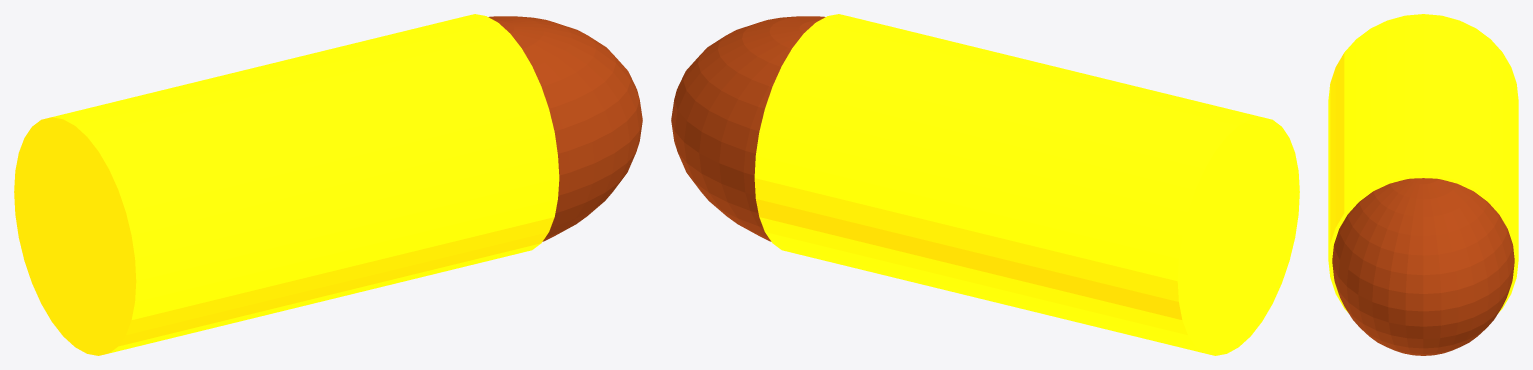
The model's file is bullet.glb.
The picture shows the model from 3 angles, left to right: view 1: azimuth 30°, elevation 25°; view 2: azimuth 150°, elevation 25°; view 3: azimuth 270°, elevation 25°; orthographic projection. The views are drawn at different scales.
Visible parts, largest first — view 1: Cylinder, Sphere; view 2: Cylinder, Sphere; view 3: Cylinder, Sphere.
Boxes of the visible parts, left/top/right/bottom form: Cylinder: left=14, top=14, right=559, bottom=355; Sphere: left=488, top=16, right=642, bottom=241; Cylinder: left=754, top=14, right=1299, bottom=355; Sphere: left=671, top=16, right=825, bottom=241; Cylinder: left=1328, top=14, right=1518, bottom=312; Sphere: left=1332, top=178, right=1514, bottom=355.
Bounding box in the file's own units: 0.5259 × 0.2 × 0.2.
